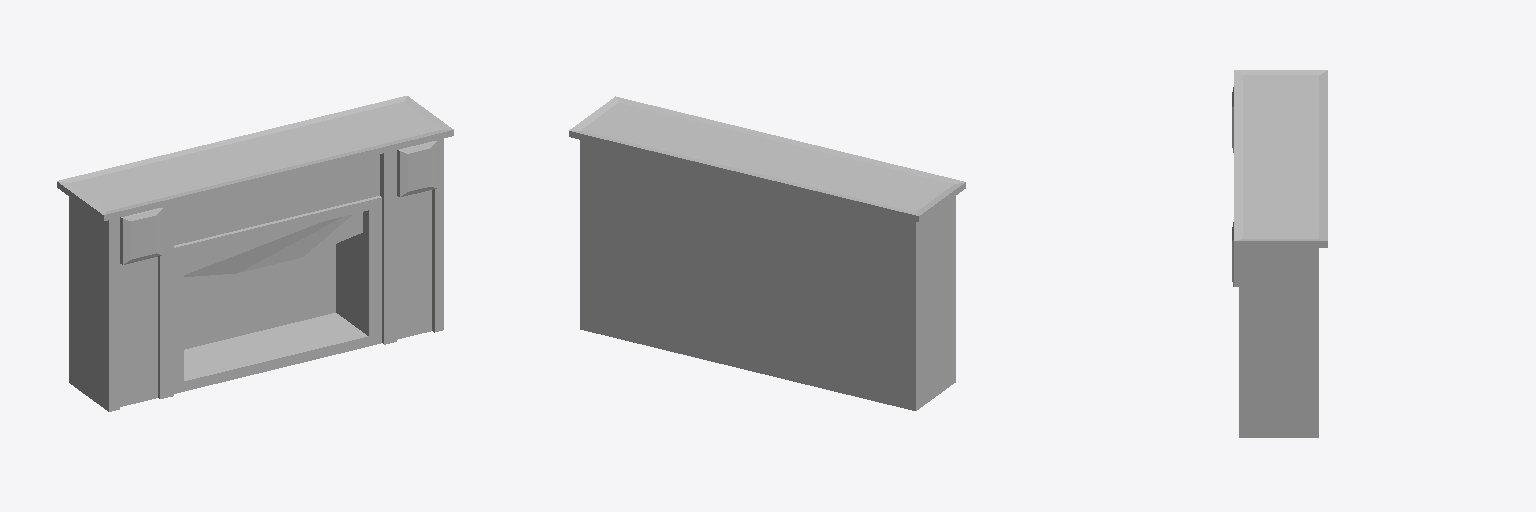
The model's file is spawn.obj.
3 views of the same model, side by side, from view 1: azimuth 30°, elevation 25°; view 2: azimuth 150°, elevation 25°; view 3: azimuth 270°, elevation 25° (orthographic).
Visible parts, largest first — view 1: Cube_Cube.001; view 2: Cube_Cube.001; view 3: Cube_Cube.001.
Part boxes in pixels (left/top/right/bottom): Cube_Cube.001: left=57, top=96, right=453, bottom=411; Cube_Cube.001: left=569, top=96, right=965, bottom=410; Cube_Cube.001: left=1232, top=70, right=1327, bottom=437.
Size of the model in its own units: 38.46 by 20.99 by 9.15.